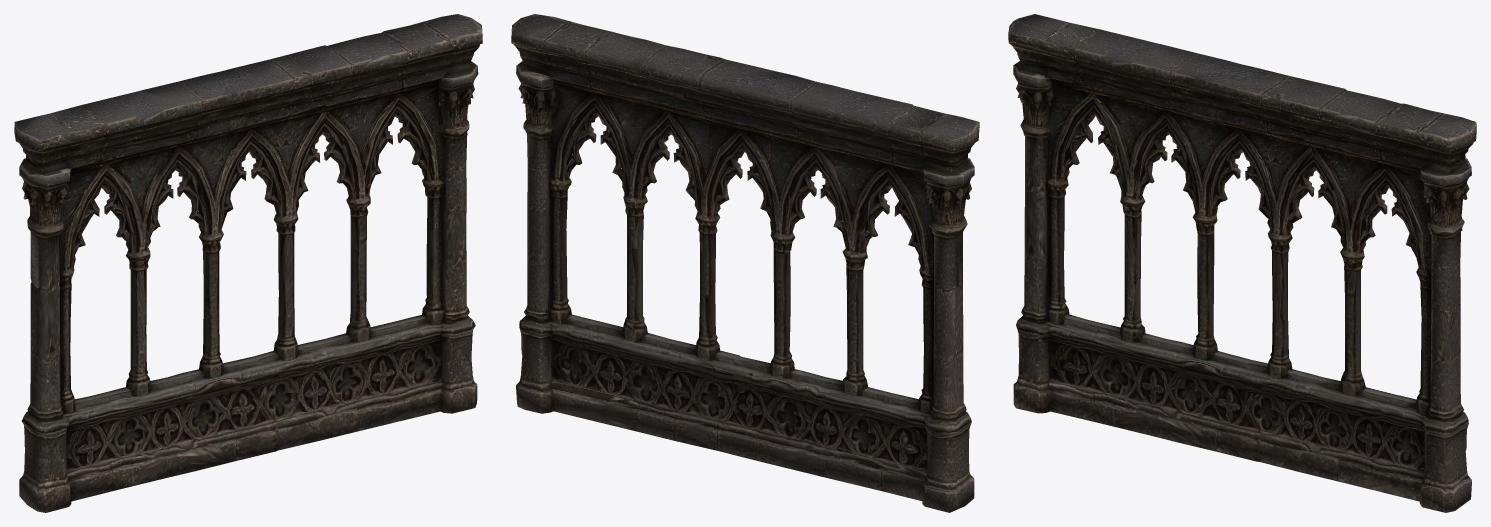
File: frieze2.glb
3 renders of one model, left to right at view 1: azimuth 30°, elevation 25°; view 2: azimuth 150°, elevation 25°; view 3: azimuth 330°, elevation 25°, orthographic.
Visible parts, largest first — view 1: frieze2; view 2: frieze2; view 3: frieze2.
Part boxes in pixels (x1=…): frieze2: x1=14, y1=14, x2=482, y2=512; frieze2: x1=511, y1=14, x2=979, y2=512; frieze2: x1=1008, y1=14, x2=1476, y2=512.
Bounding box in the file's own units: 5 × 3.9 × 0.5.
Materials: 1 (1 with a texture image).
